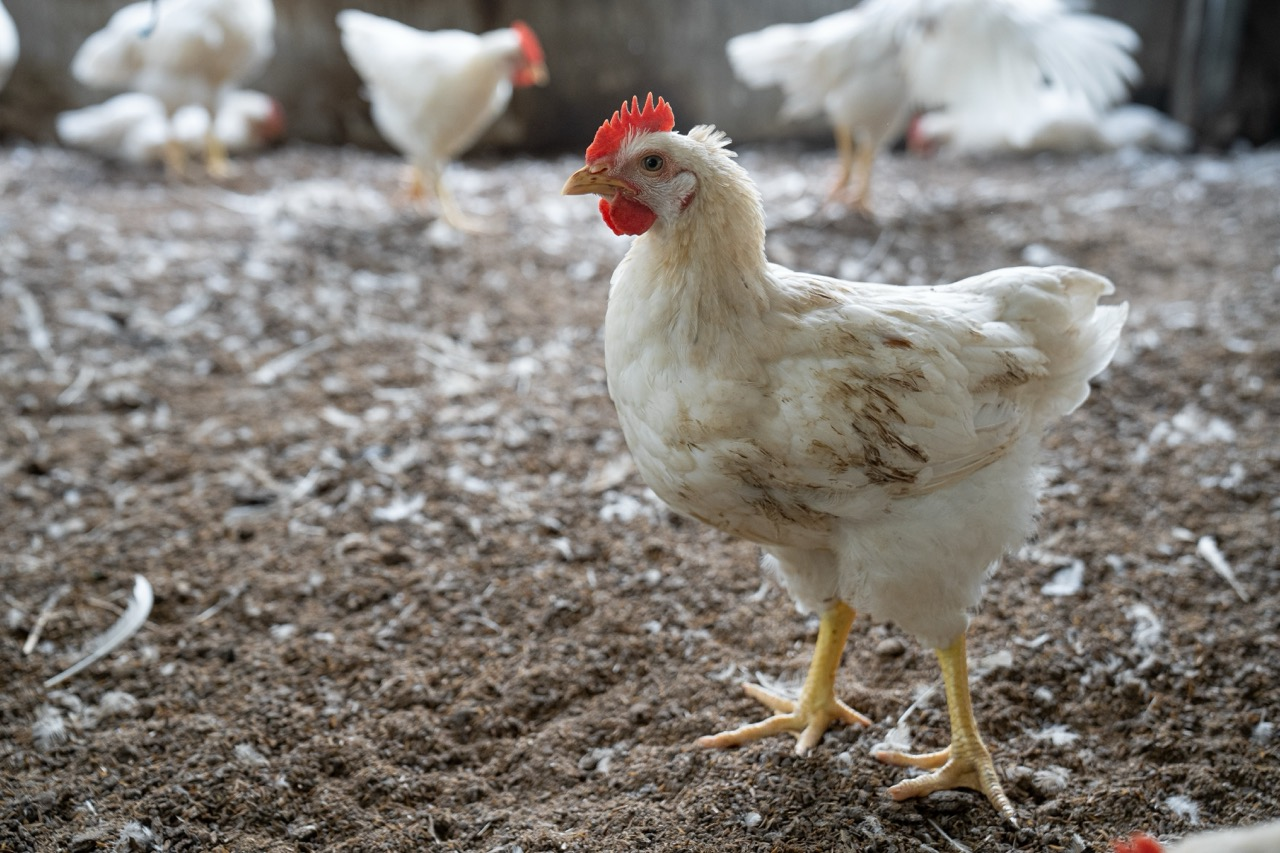Healthy: (557, 80, 1141, 838)
